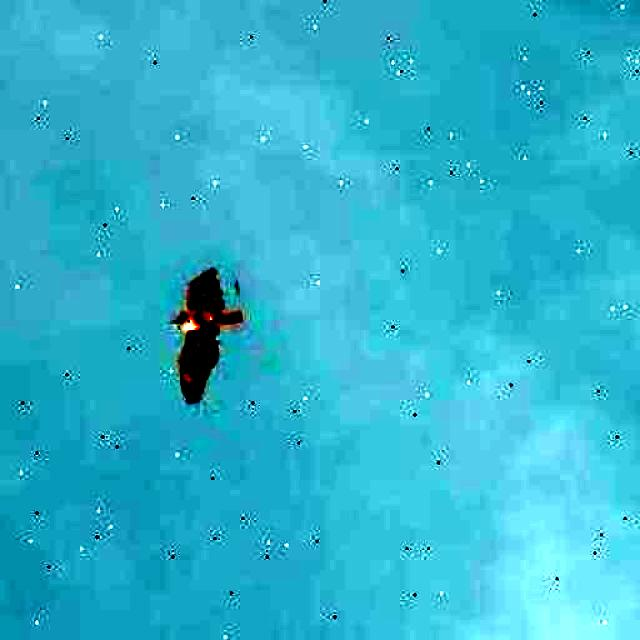airplane: (161, 264, 258, 408)
